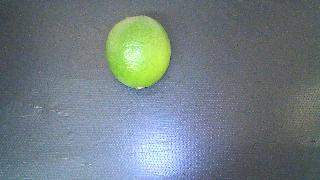EXPORTACION: (106, 16, 171, 89)
